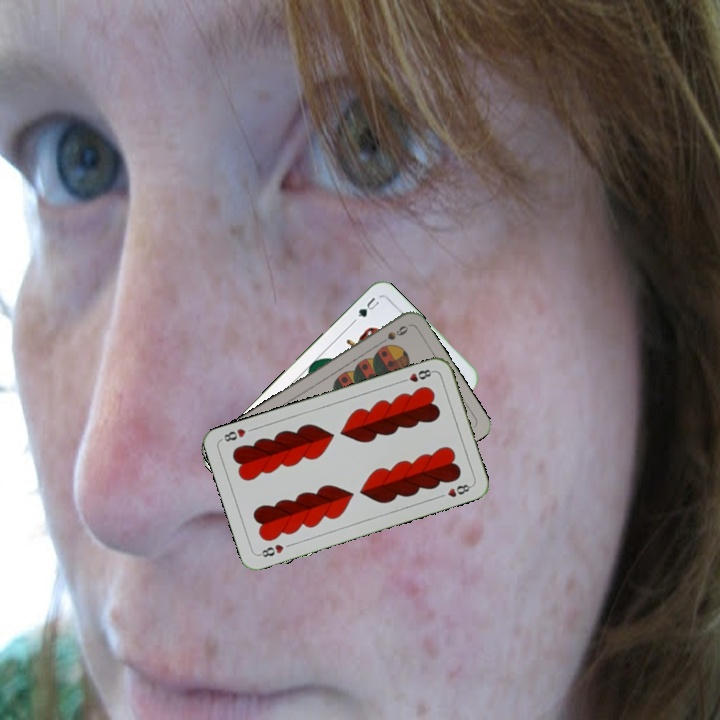GU: (353, 293, 382, 320)
H8: (397, 365, 436, 385), (255, 540, 286, 560)
S9: (374, 321, 411, 348)
